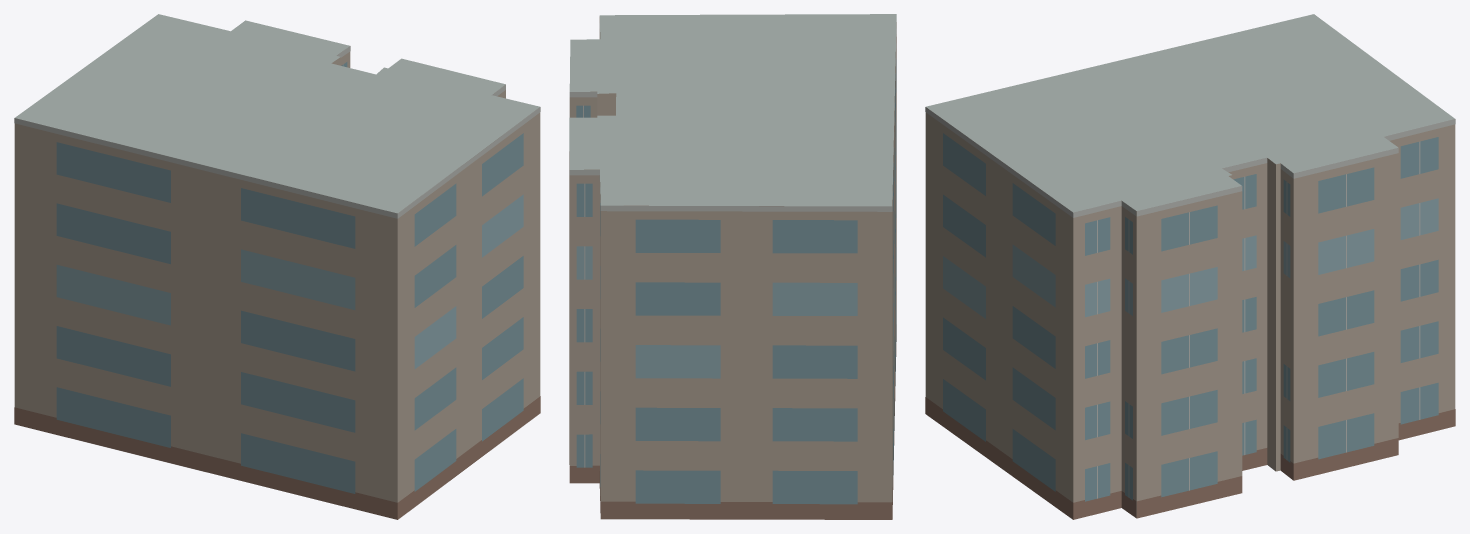
Rendered from survey-upis-32910256.glb.
3 renders of one model, left to right at view 1: azimuth 30°, elevation 25°; view 2: azimuth 150°, elevation 25°; view 3: azimuth 270°, elevation 25°, orthographic. The views are drawn at different scales.
Visible parts, largest first — view 1: survey-upis-32910256.tmp; view 2: survey-upis-32910256.tmp; view 3: survey-upis-32910256.tmp.
Boxes of the visible parts, <box> form: survey-upis-32910256.tmp: <box>14,14,540,519</box>; survey-upis-32910256.tmp: <box>569,14,896,519</box>; survey-upis-32910256.tmp: <box>925,14,1455,519</box>.
Size of the model in its own units: 19.42 by 14 by 21.89.
